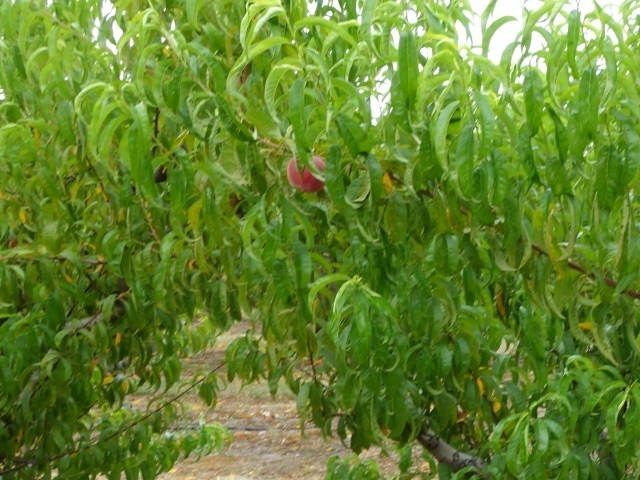peach: (282, 152, 330, 196)
